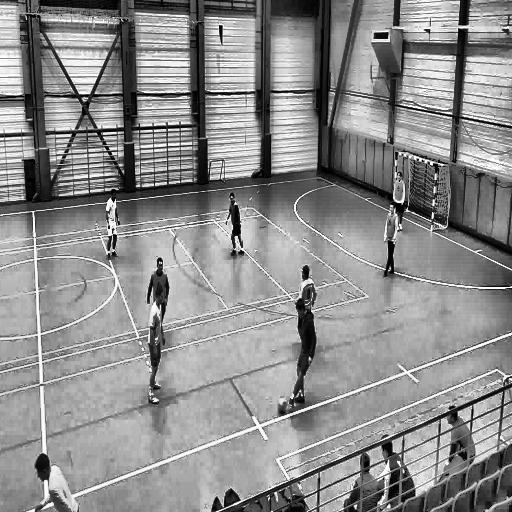ball: (277, 396, 287, 416)
player: (288, 299, 316, 414), (35, 448, 79, 512), (146, 289, 166, 406), (147, 256, 170, 326), (381, 202, 399, 281), (225, 192, 245, 258), (105, 188, 122, 262), (296, 264, 317, 312), (392, 170, 406, 233)
